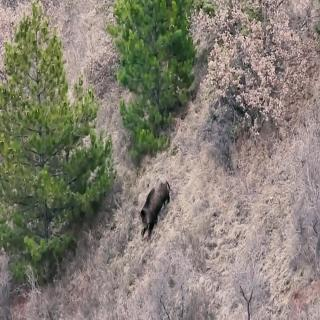Pig: (136, 174, 188, 238)
